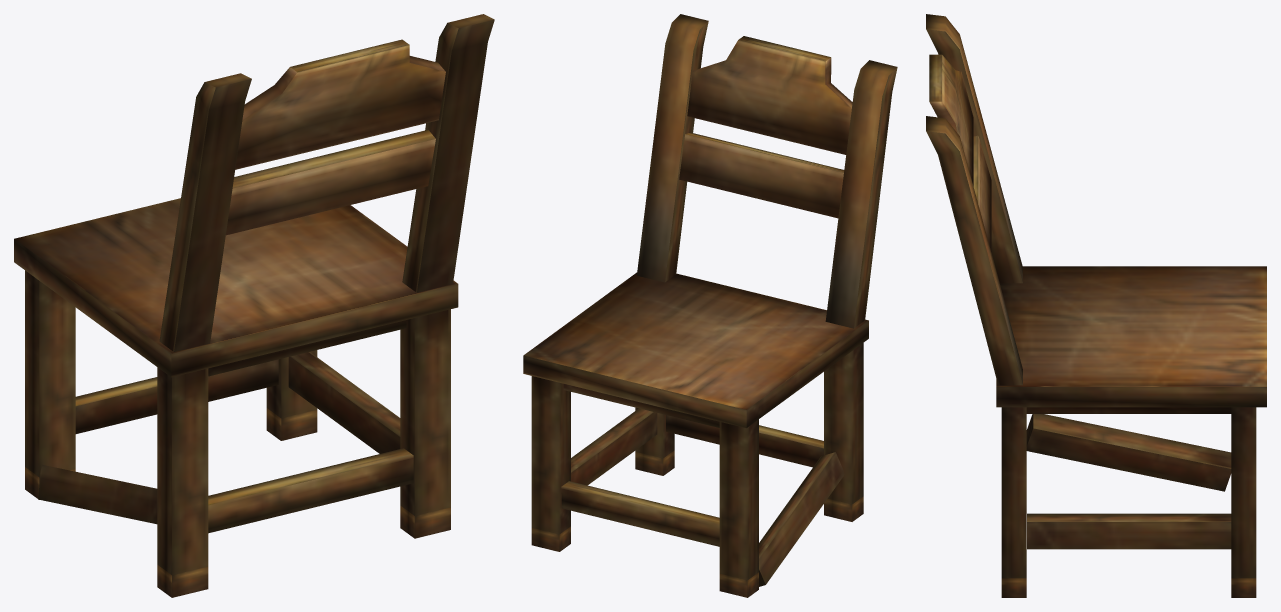
Rendered from c_SWGchair02A_b02.glb.
3 renders of one model, left to right at view 1: azimuth 30°, elevation 25°; view 2: azimuth 150°, elevation 25°; view 3: azimuth 270°, elevation 25°, orthographic. The views are drawn at different scales.
Visible parts, largest first — view 1: c_SWGchair02A_b02; view 2: c_SWGchair02A_b02; view 3: c_SWGchair02A_b02.
Boxes of the visible parts, x1,y1,x2,y2 form: c_SWGchair02A_b02: (14,14,494,597); c_SWGchair02A_b02: (523,14,897,597); c_SWGchair02A_b02: (926,14,1266,597).
Bounding box in the file's own units: 0.5263 × 0.959 × 0.6282.
Materials: 1 (1 with a texture image).
